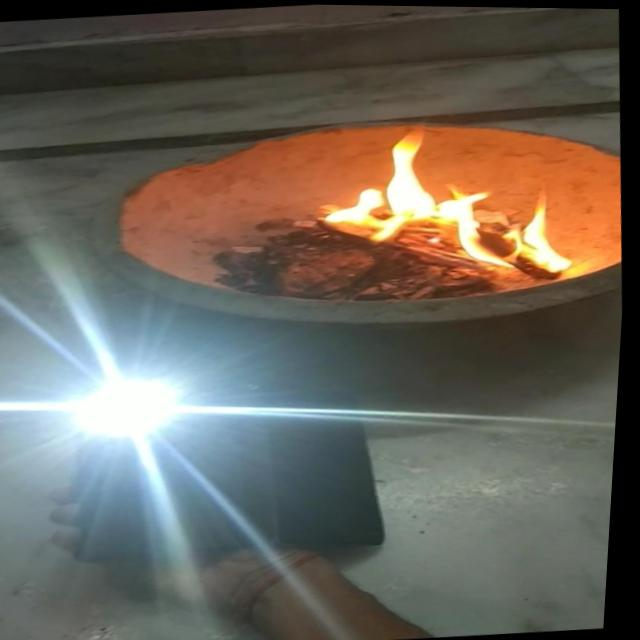fire: (312, 114, 592, 291)
